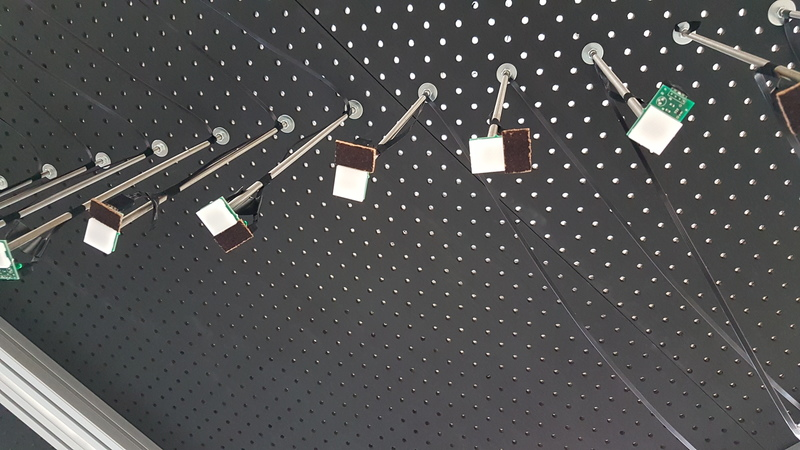target: (627, 103, 681, 155), (193, 199, 241, 241), (465, 133, 507, 176), (331, 163, 368, 203), (83, 219, 119, 256)
